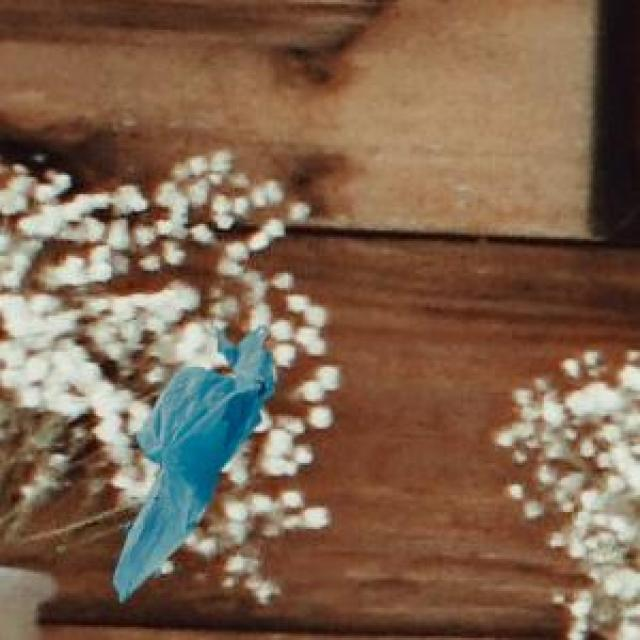waste: (114, 328, 274, 602)
